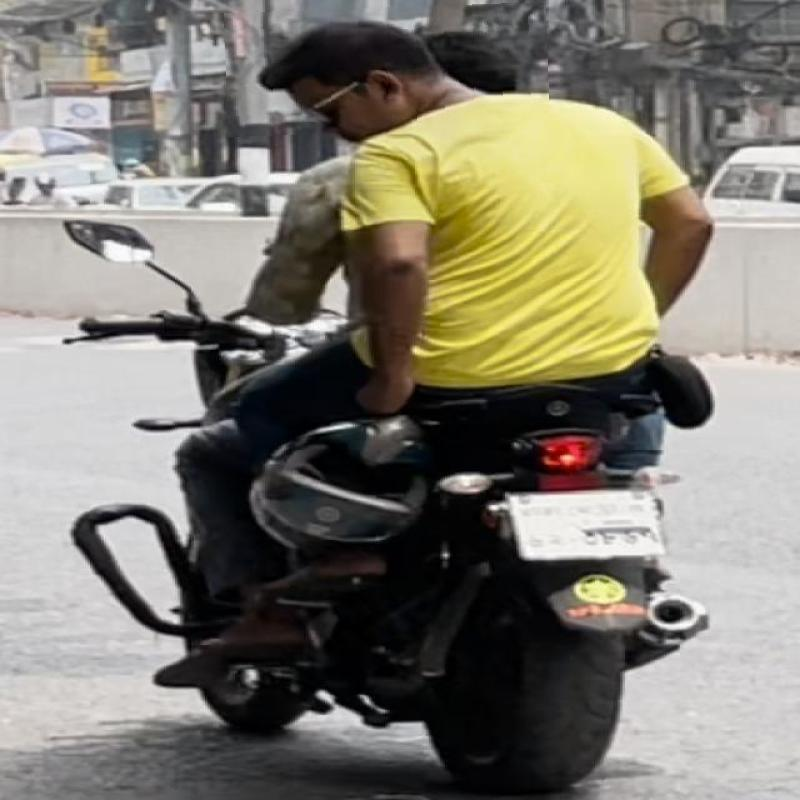nohelmet: (225, 5, 549, 135)
